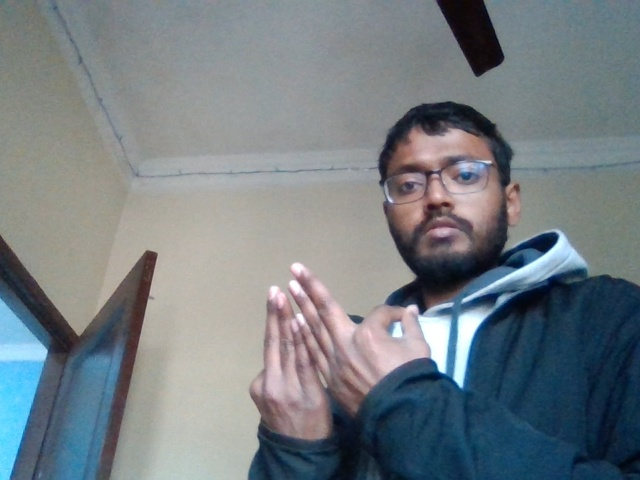family: (234, 254, 447, 427)
